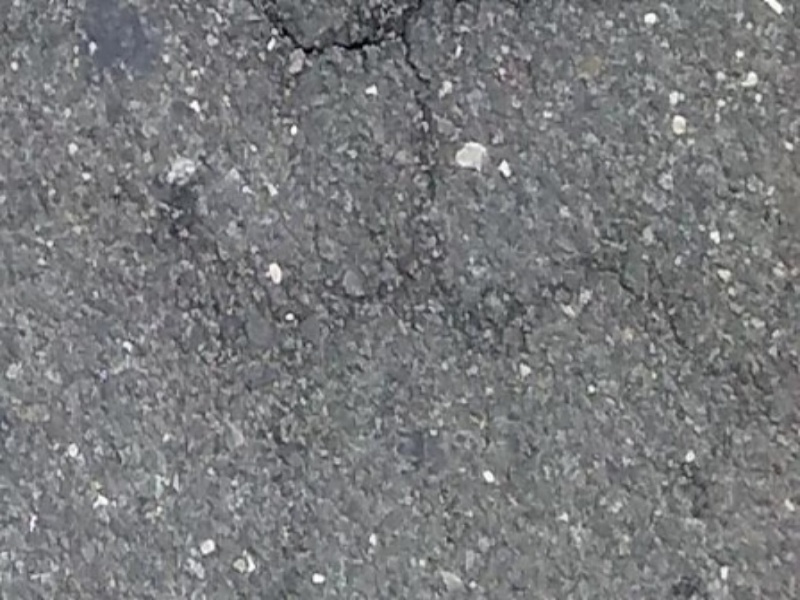crack: (391, 74, 735, 382), (139, 183, 383, 287), (255, 2, 427, 67)
